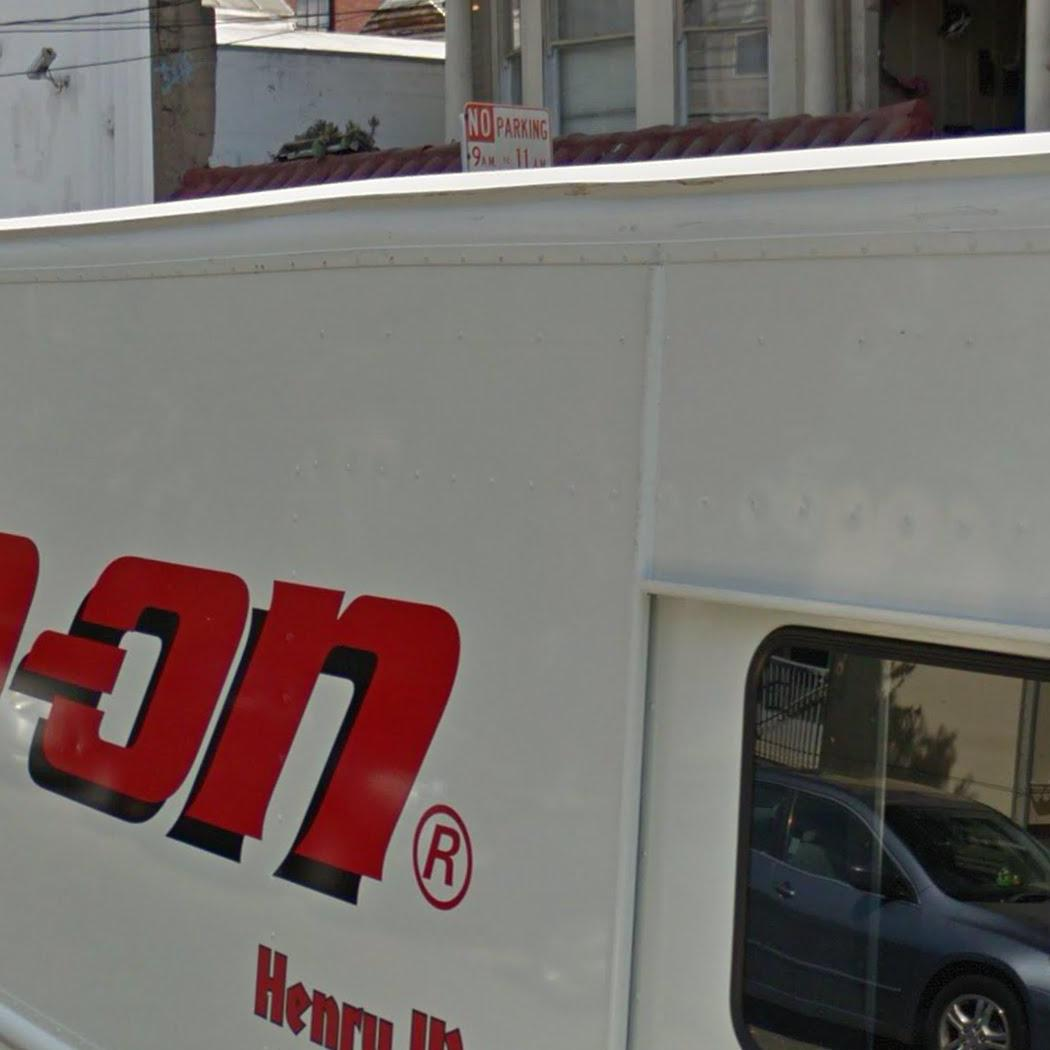No Parking: (458, 98, 554, 174)
